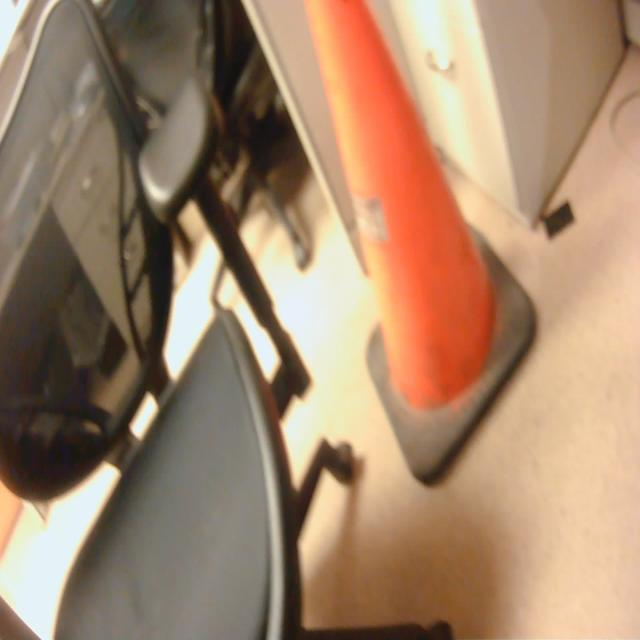traffic cone: (299, 1, 547, 497)
